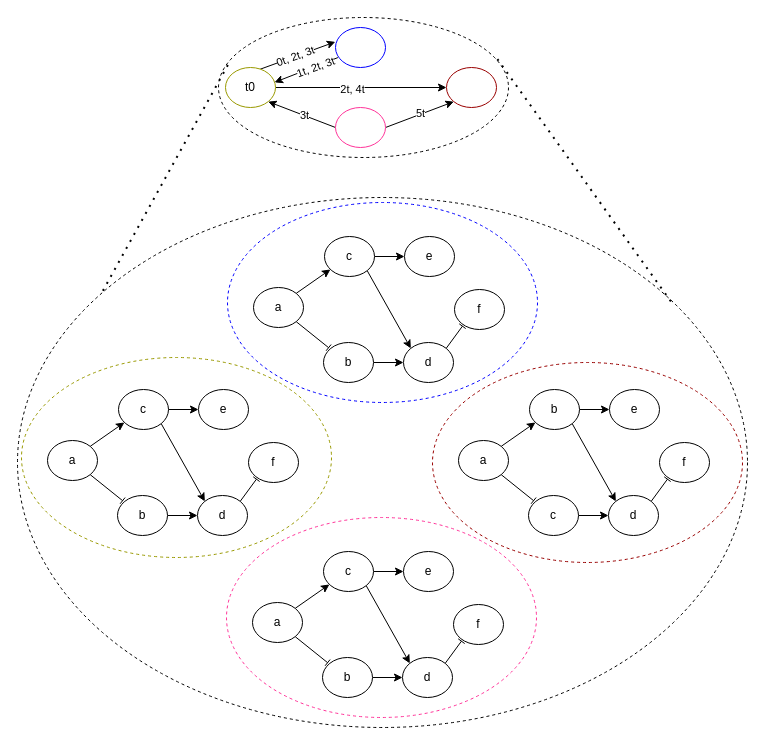
Image size: 765x745. Some labels were removed from this diagram. The centre of each missing label's shape, as x and y in pixels:
"t1" goes at point 360,47.
"t2" goes at point 471,87.
"t3" goes at point 360,127.
